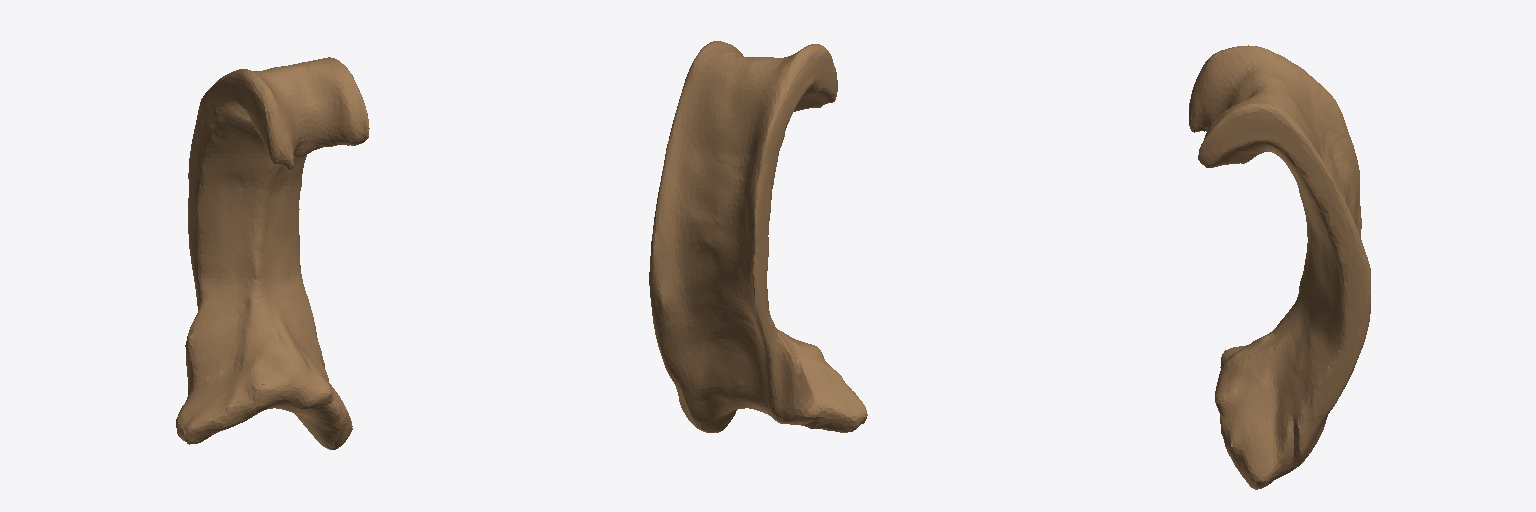
File: corpus_callosum.obj
3 views of the same model, side by side, from view 1: azimuth 30°, elevation 25°; view 2: azimuth 150°, elevation 25°; view 3: azimuth 270°, elevation 25° (orthographic).
Visible parts, largest first — view 1: Corpus_Callosum; view 2: Corpus_Callosum; view 3: Corpus_Callosum.
Boxes of the visible parts, <box> form: Corpus_Callosum: <box>176,57,369,449</box>; Corpus_Callosum: <box>649,41,867,432</box>; Corpus_Callosum: <box>1189,45,1370,489</box>.
Bounding box in the file's own units: 116 × 258 × 106.